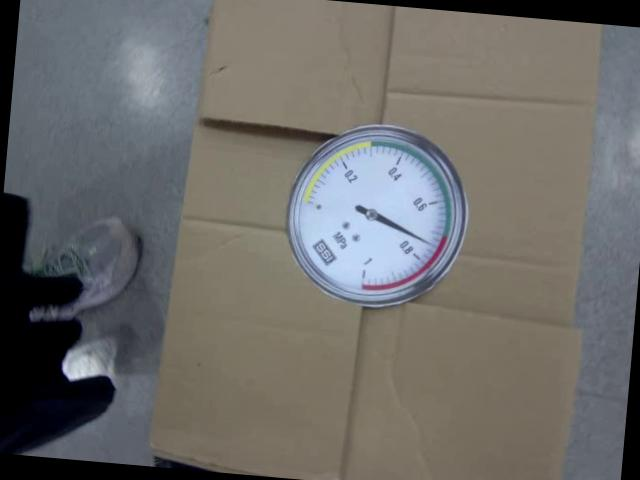Dashboard: (276, 116, 477, 316)
ssi: (308, 236, 338, 267)
